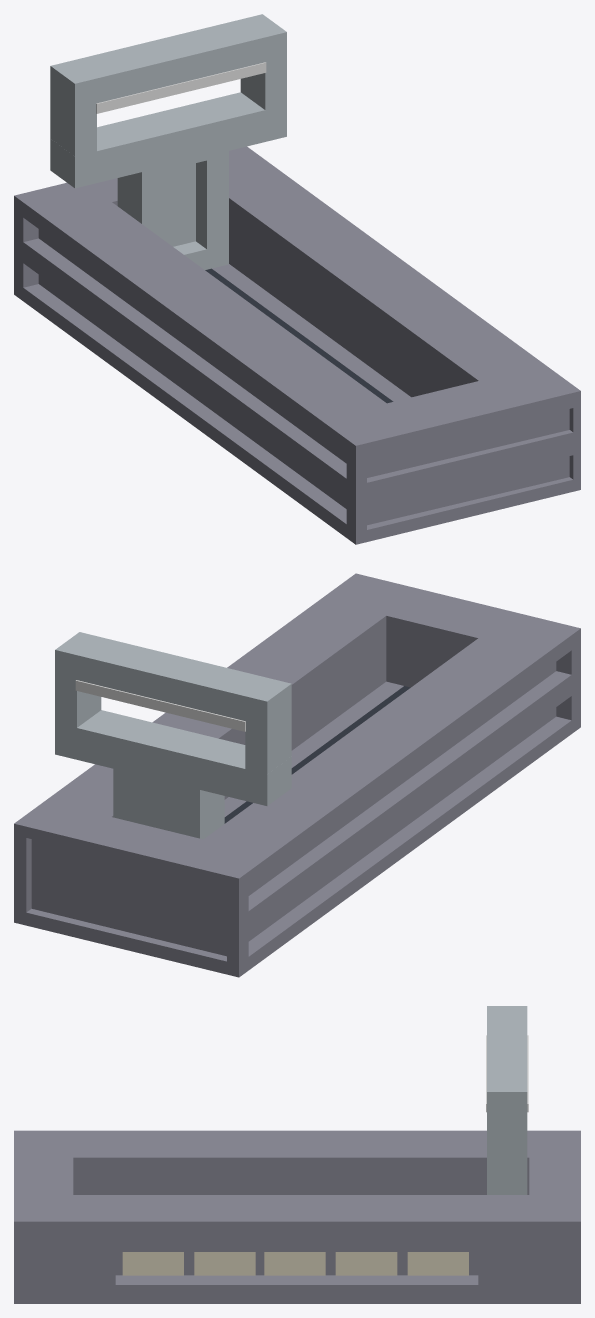
Rendered from chargeur (1).fbx.
3 renders of one model, top to bottom at view 1: azimuth 30°, elevation 25°; view 2: azimuth 150°, elevation 25°; view 3: azimuth 270°, elevation 25°, orthographic. The views are drawn at different scales.
Visible parts, largest first — view 1: base, poignee; view 2: base, poignee; view 3: base, poignee.
Part boxes in pixels (<box>): base: <box>14,146,580,544</box>; poignee: <box>50,14,286,269</box>; base: <box>14,573,580,977</box>; poignee: <box>55,632,291,839</box>; base: <box>14,1130,580,1303</box>; poignee: <box>486,1006,528,1194</box>.
Bounding box in the file's own units: 54.99 × 58.65 × 145.
